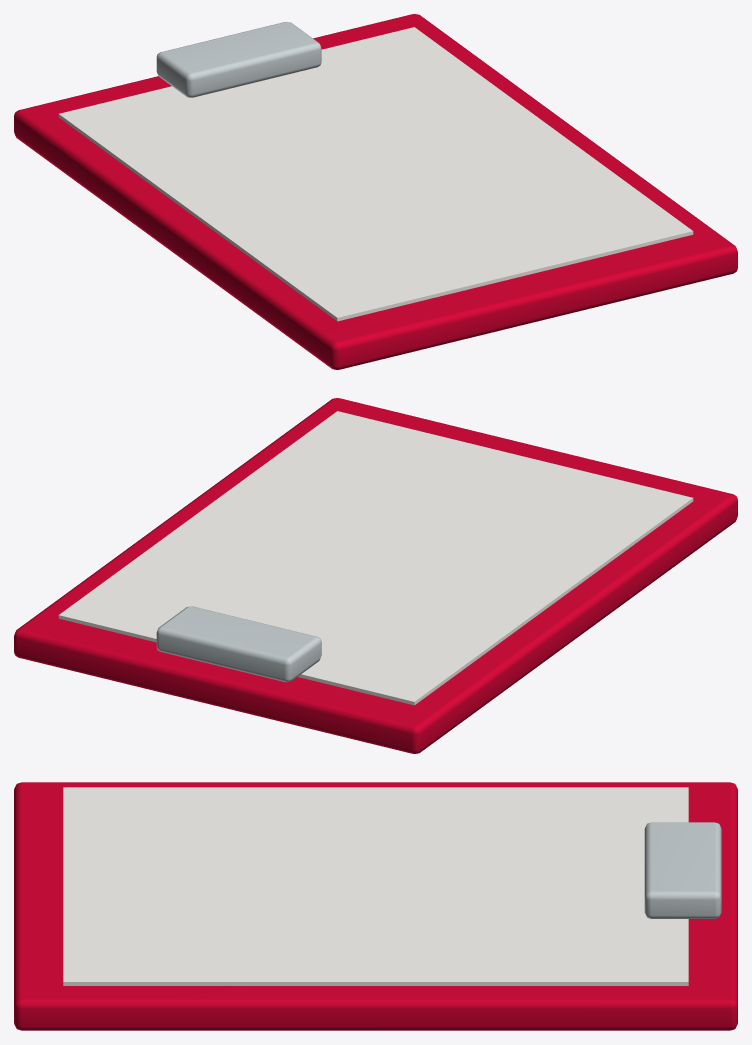
Rendered from Clipboard.fbx.
The picture shows the model from 3 angles, top to bottom: view 1: azimuth 30°, elevation 25°; view 2: azimuth 150°, elevation 25°; view 3: azimuth 270°, elevation 25°; orthographic projection. The views are drawn at different scales.
Parts seen in each view (by area): view 1: Clipboard_White, Clipboard_Red, Clipboard_Steel; view 2: Clipboard_White, Clipboard_Red, Clipboard_Steel; view 3: Clipboard_White, Clipboard_Red, Clipboard_Steel.
Part boxes in pixels (x1,y1,x2,y2): Clipboard_White: (58, 27, 693, 321); Clipboard_Red: (14, 14, 737, 369); Clipboard_Steel: (156, 21, 321, 97); Clipboard_White: (58, 411, 693, 705); Clipboard_Red: (14, 398, 737, 753); Clipboard_Steel: (156, 606, 321, 682); Clipboard_White: (63, 787, 688, 985); Clipboard_Red: (14, 782, 737, 1030); Clipboard_Steel: (644, 822, 721, 918).
Size of the model in its own units: 24 by 3.3 by 33.
